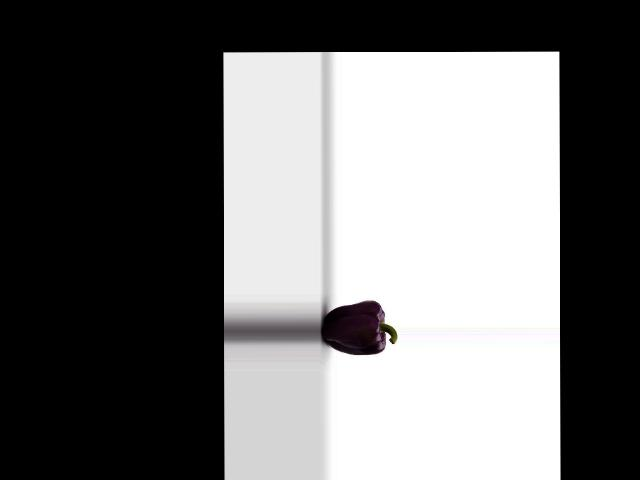bell_pepper: (323, 296, 396, 361)
